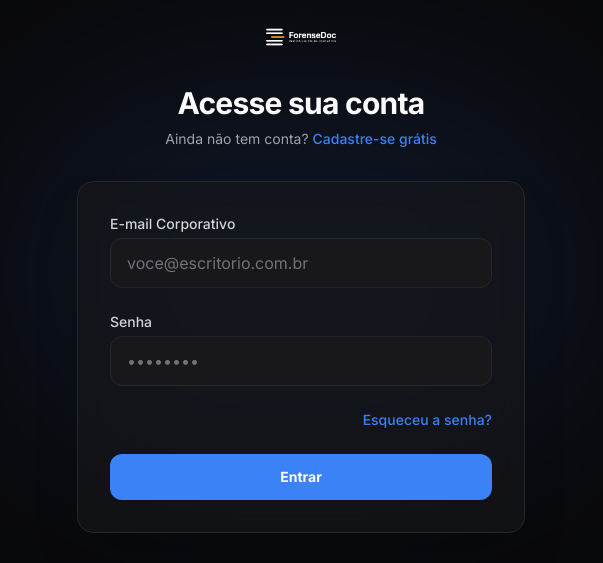
Test: Login com segundo fator › troca para o passo do código quando o servidor pede TOTP
In the field with placeholder "voce@escritorio.com.br": {"x": 301, "y": 263} [110, 238, 492, 288], type "admin@forensedoc.test"
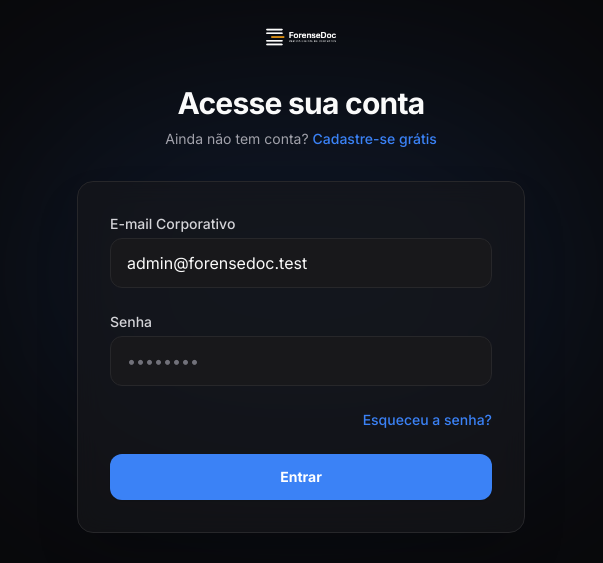
In the password field with placeholder "••••••••": {"x": 301, "y": 361} [110, 336, 492, 386], type "senha-muito-boa-123"
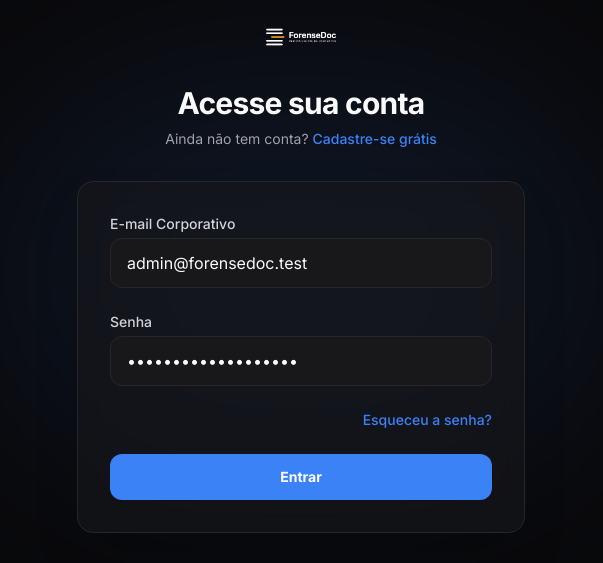
Click the button "Entrar": {"x": 301, "y": 477} [110, 454, 492, 500]
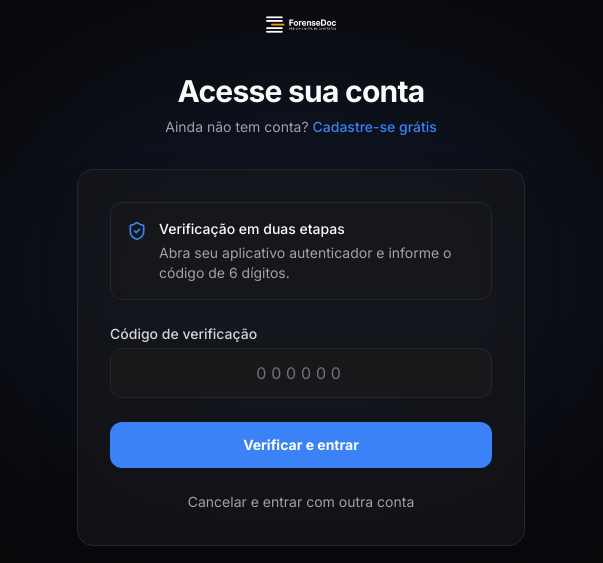
expect the field labelled "Código de verificação" is shown: met, box [110, 348, 492, 398]
expect the text "Verificação em duas etapas" is shown: met, box [159, 220, 345, 236]
